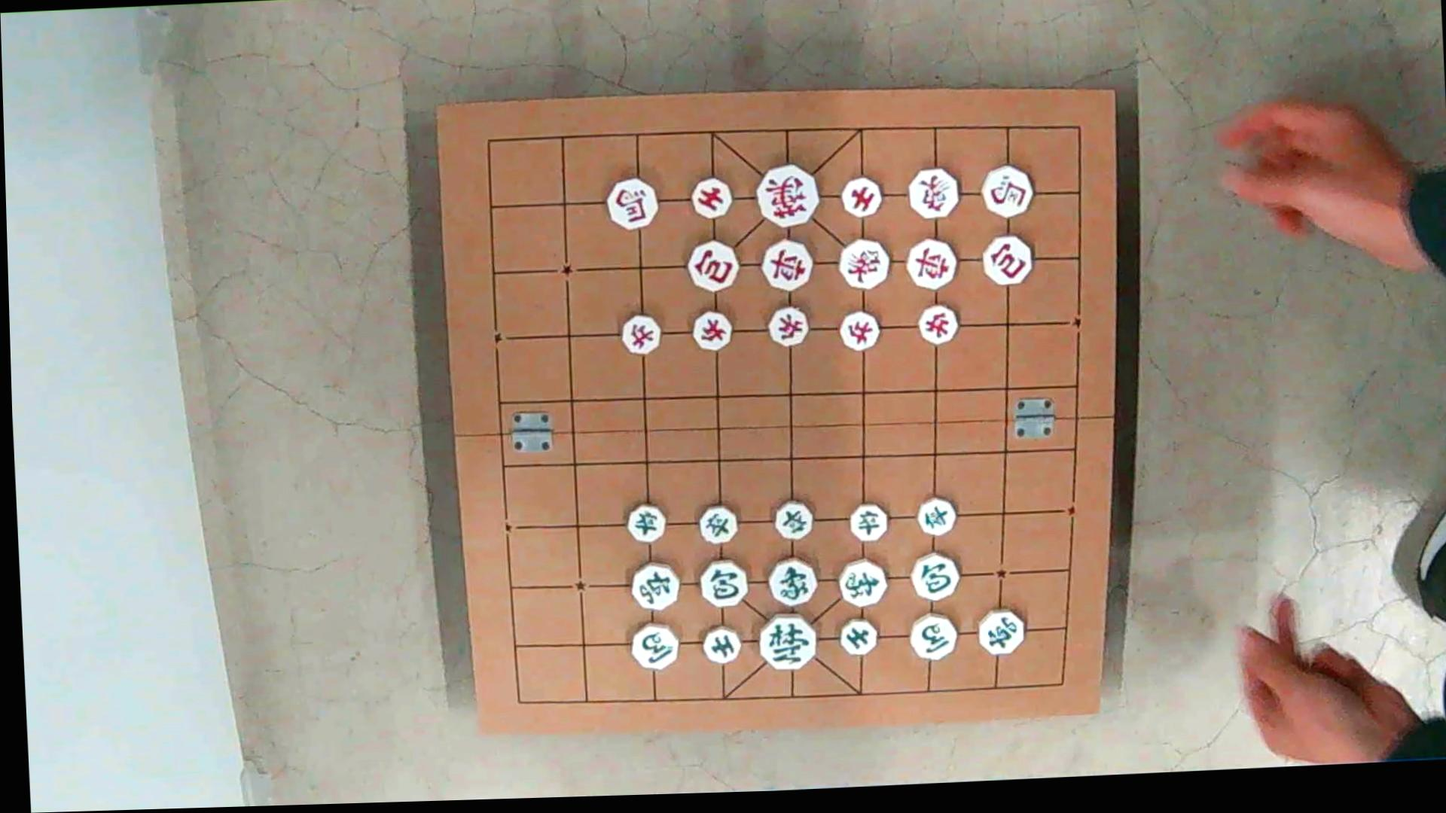cha_green: (628, 560, 680, 611), (978, 608, 1025, 656)
cha_red: (905, 238, 957, 291), (761, 239, 813, 291)
jol_green: (625, 503, 666, 544), (917, 497, 958, 537), (697, 504, 738, 544), (774, 500, 814, 540), (850, 503, 889, 542)
jol_red: (768, 305, 810, 347), (692, 310, 734, 352), (620, 314, 662, 355), (918, 303, 959, 345), (840, 310, 880, 352)
ma_green: (908, 612, 959, 660), (630, 623, 681, 670)
ma_red: (981, 166, 1034, 218), (607, 178, 659, 230)
po_green: (698, 558, 749, 608), (911, 552, 961, 601)
po_red: (686, 239, 740, 292), (981, 235, 1033, 286)
sa_green: (838, 617, 879, 656), (702, 626, 742, 665)
sa_red: (691, 177, 733, 219), (841, 177, 883, 218)
sang_green: (767, 556, 819, 607), (838, 558, 889, 607)
sang_red: (839, 239, 891, 290), (908, 168, 960, 219)
wang_green: (758, 612, 818, 671)
wang_red: (756, 164, 819, 228)
